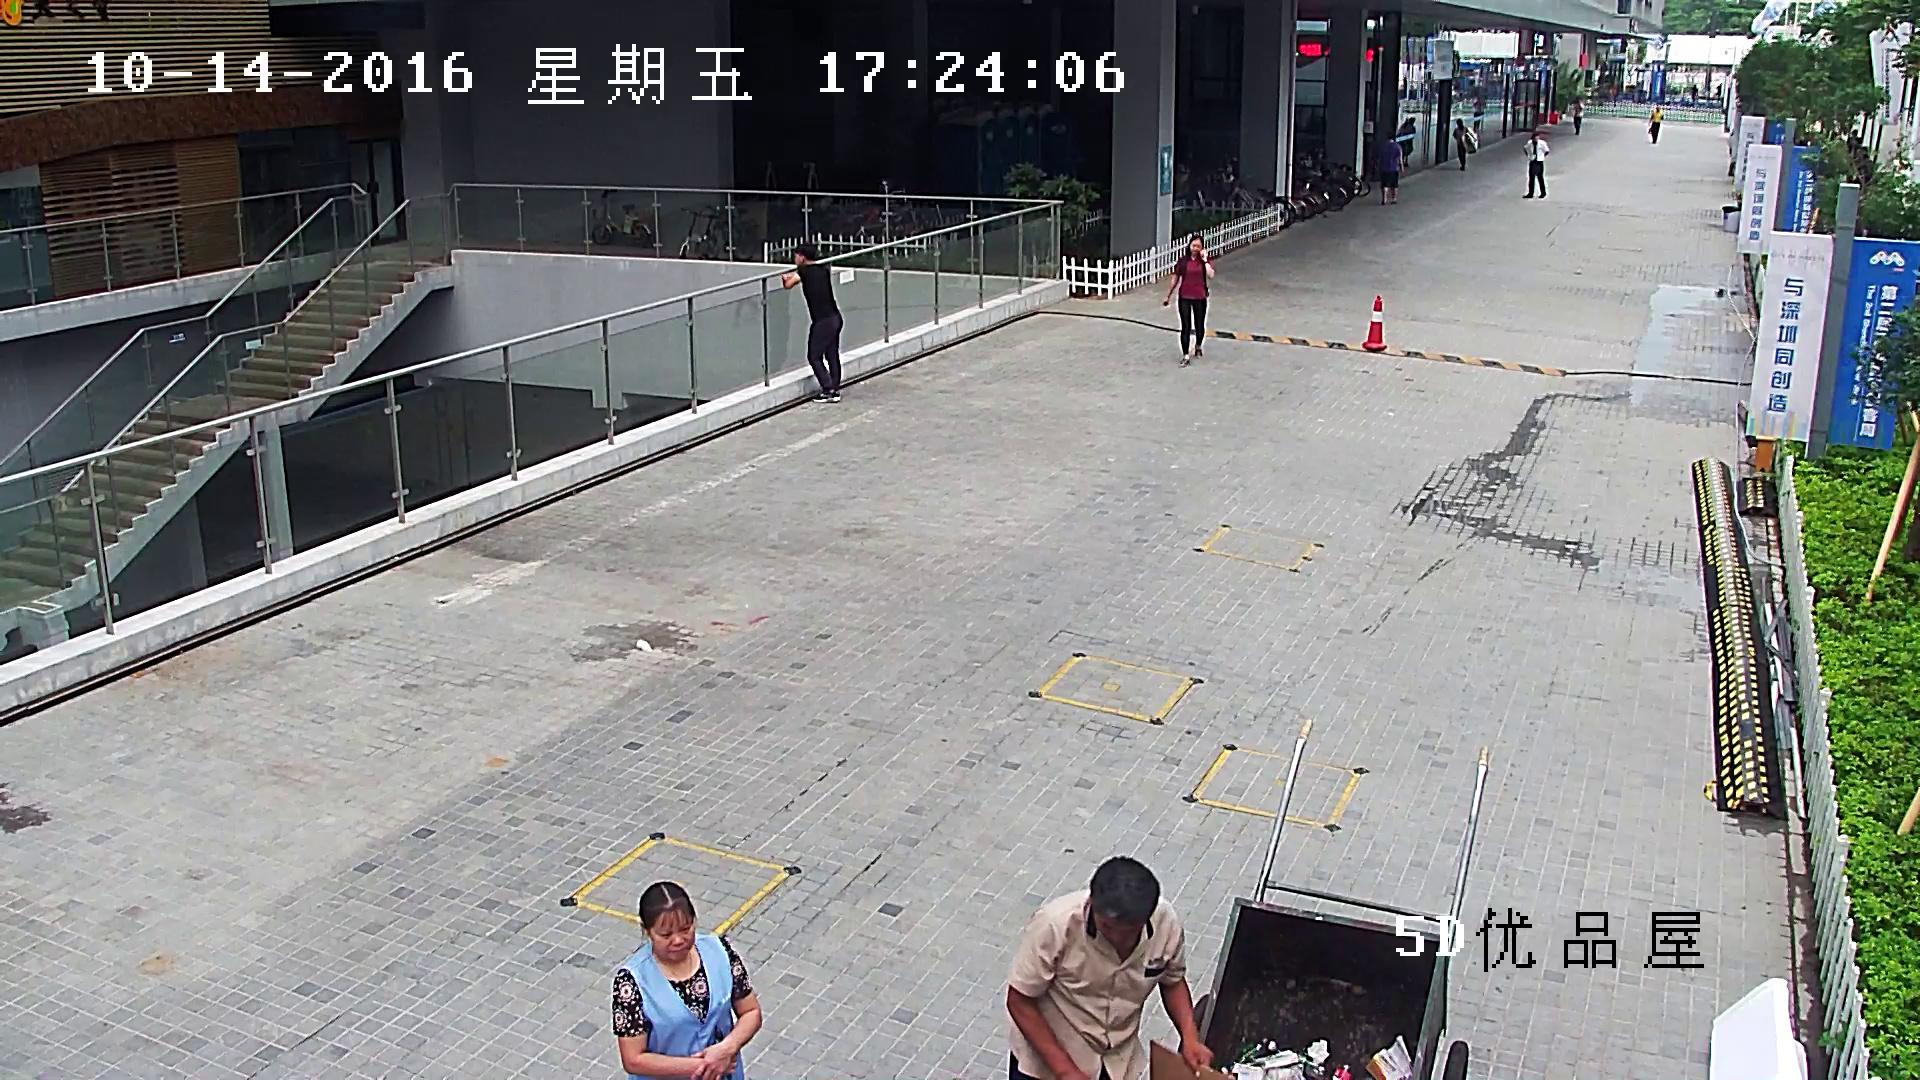person: (1003, 857, 1228, 1080), (610, 883, 763, 1076), (778, 244, 844, 403), (1163, 234, 1215, 367), (1524, 131, 1549, 199), (1379, 133, 1403, 203), (1452, 119, 1477, 171), (1453, 118, 1477, 170), (1399, 117, 1416, 166), (1647, 105, 1663, 143), (1472, 93, 1485, 131), (1573, 97, 1584, 135), (1847, 129, 1861, 157), (1690, 84, 1698, 100)
